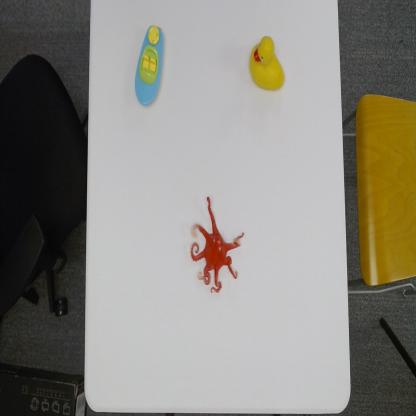Boat: (134, 21, 166, 108)
Duck: (248, 33, 286, 92)
Octopus: (188, 196, 246, 296)
